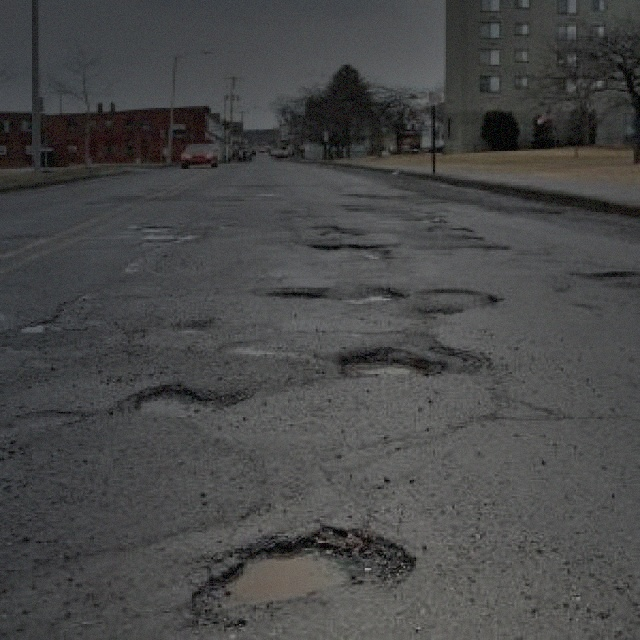pothole: (184, 522, 418, 612), (128, 379, 250, 419), (333, 342, 446, 379), (337, 284, 405, 306), (303, 237, 384, 252), (260, 282, 331, 298)
